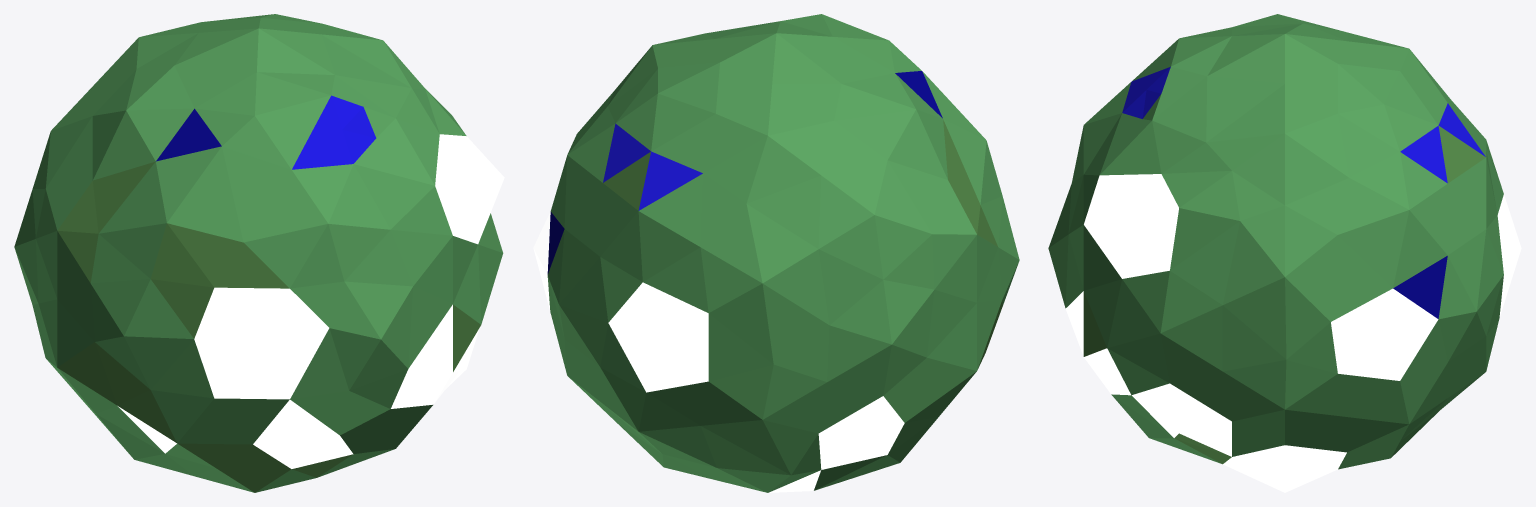
The picture shows the model from 3 angles, left to right: view 1: azimuth 30°, elevation 25°; view 2: azimuth 150°, elevation 25°; view 3: azimuth 270°, elevation 25°; orthographic projection. The views are drawn at different scales.
Visible parts, largest first — view 1: Planet; view 2: Planet; view 3: Planet.
Boxes of the visible parts, <box> form: Planet: <box>14,14,504,492</box>; Planet: <box>533,14,1019,492</box>; Planet: <box>1048,14,1521,492</box>.
Size of the model in its own units: 6.98 by 7.29 by 7.29.
